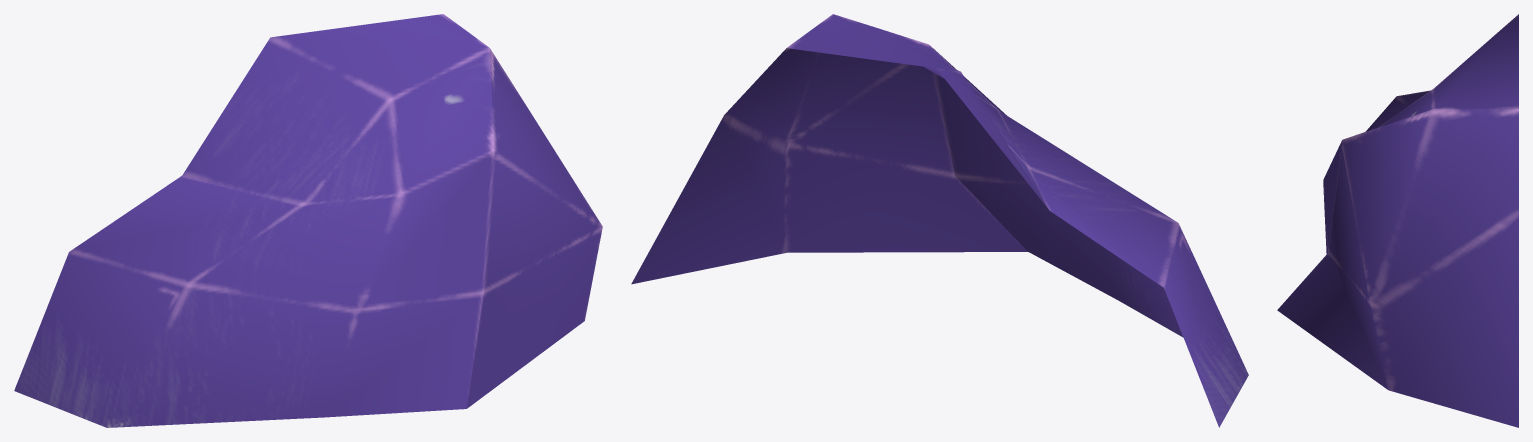
The model's file is Roca_04.fbx.
3 renders of one model, left to right at view 1: azimuth 30°, elevation 25°; view 2: azimuth 150°, elevation 25°; view 3: azimuth 270°, elevation 25°, orthographic. The views are drawn at different scales.
Visible parts, largest first — view 1: polySurface5; view 2: polySurface5; view 3: polySurface5.
Part boxes in pixels (bbox=[...]): polySurface5: bbox=[14, 14, 602, 427]; polySurface5: bbox=[631, 14, 1248, 427]; polySurface5: bbox=[1277, 14, 1518, 427].
Bounding box in the file's own units: 3.64 × 1.74 × 1.42.
